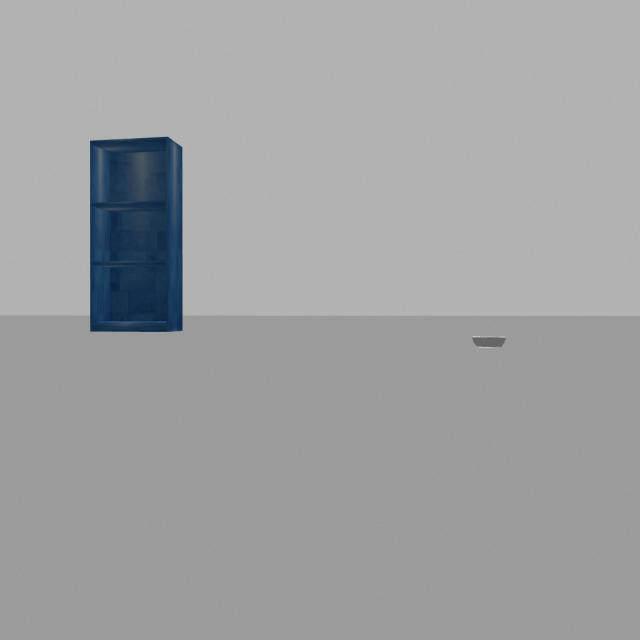bowl: (464, 329, 518, 358)
shelf: (79, 128, 193, 342)
